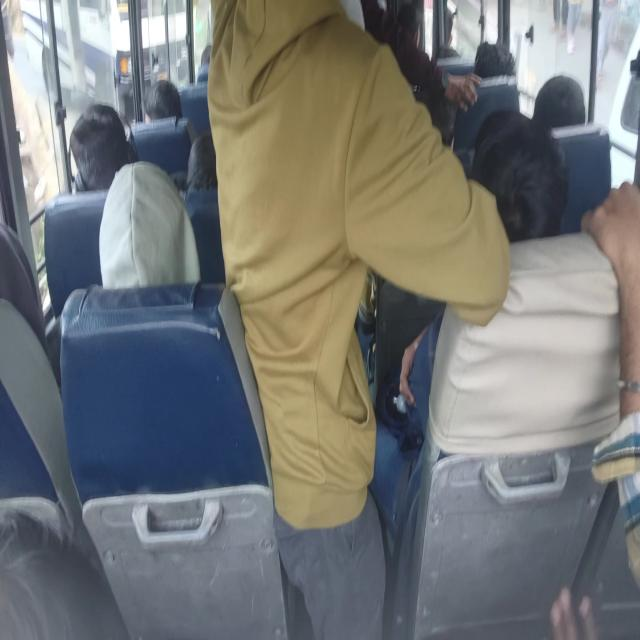person: (206, 0, 511, 638), (580, 179, 639, 586), (98, 159, 201, 289), (470, 107, 569, 242), (68, 102, 131, 192), (532, 73, 586, 129), (185, 132, 217, 192), (143, 78, 182, 122)
